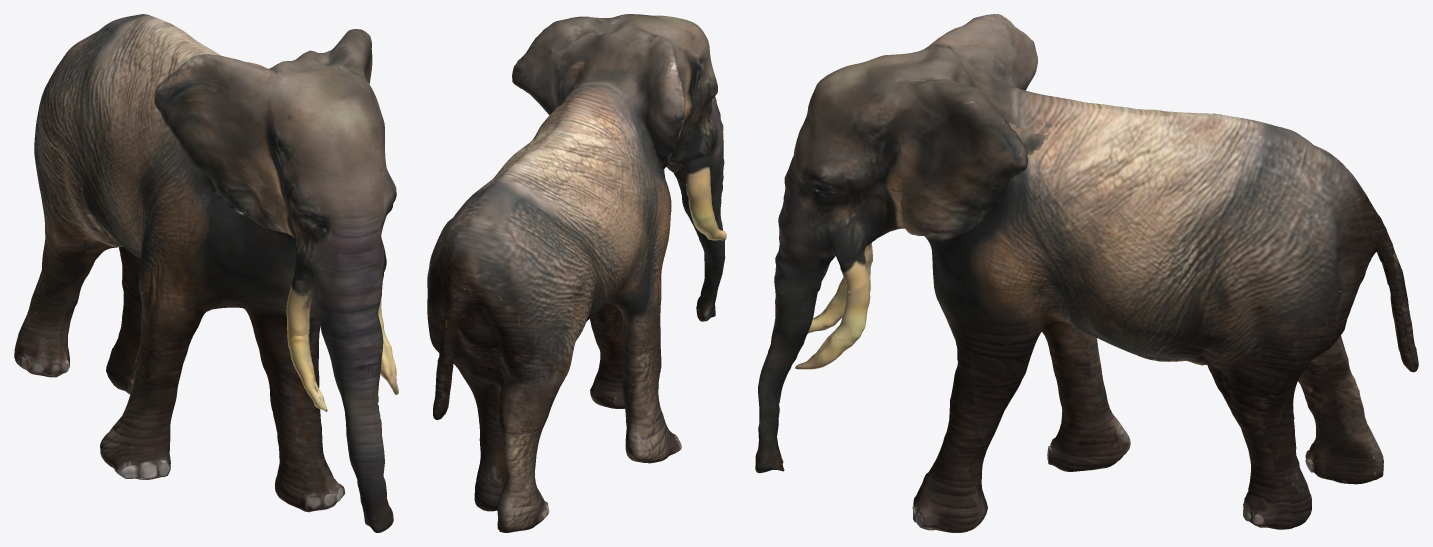
File: elefant.gltf
3 renders of one model, left to right at view 1: azimuth 30°, elevation 25°; view 2: azimuth 150°, elevation 25°; view 3: azimuth 270°, elevation 25°, orthographic. The views are drawn at different scales.
Visible parts, largest first — view 1: mesh_0; view 2: mesh_0; view 3: mesh_0.
Boxes of the visible parts, left/top/right/bottom form: mesh_0: left=14, top=14, right=398, bottom=532; mesh_0: left=427, top=14, right=726, bottom=532; mesh_0: left=755, top=14, right=1418, bottom=532.
Bounding box in the file's own units: 3.24 × 6.28 × 7.98.
Materials: 1 (1 with a texture image).
